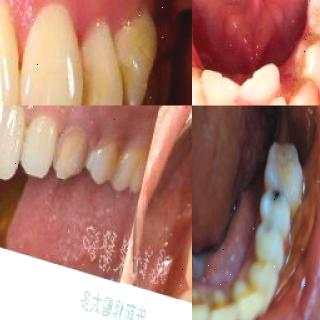cavities: (269, 184, 289, 218)
maligned: (72, 0, 122, 106), (112, 8, 154, 106), (230, 61, 276, 105), (198, 66, 241, 106), (192, 70, 208, 106), (258, 98, 300, 106)
stains: (210, 291, 236, 320), (192, 285, 204, 320)
